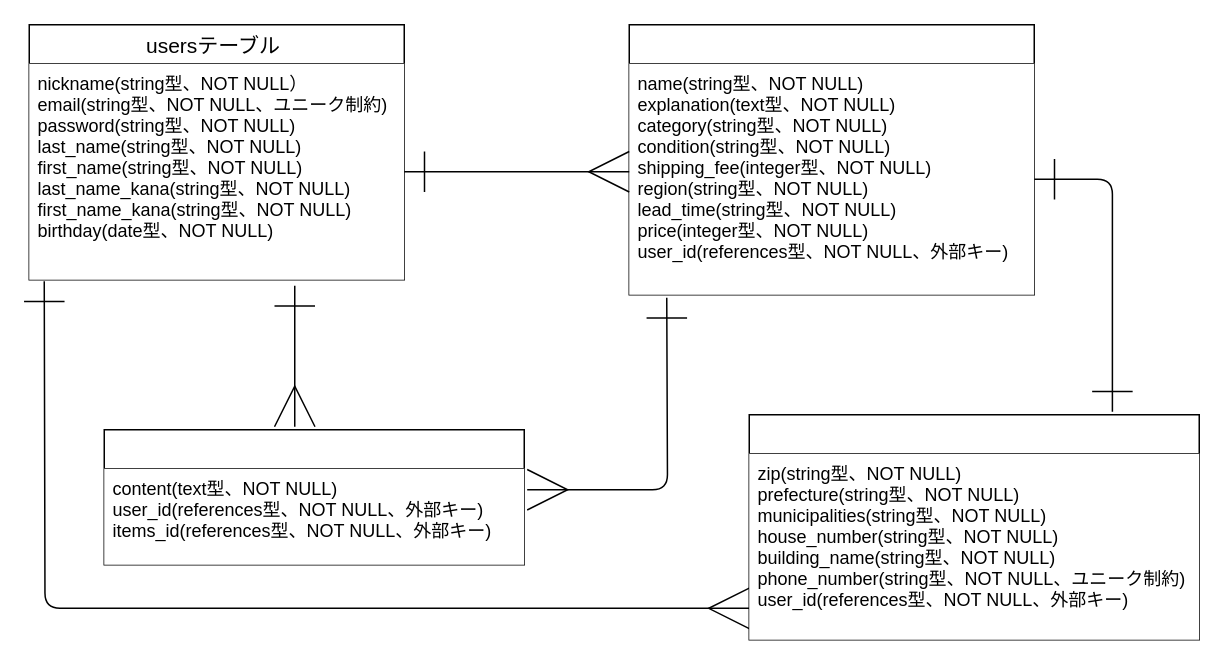
This 1224x665 diagram has some shape labels left out. The box of each missing label's shape, as (x1, y1, x2, y2) in pixels:
commentsテーブル: (103, 428, 524, 565)
itemsテーブル: (628, 23, 1034, 295)
ordersテーブル: (748, 413, 1199, 640)
